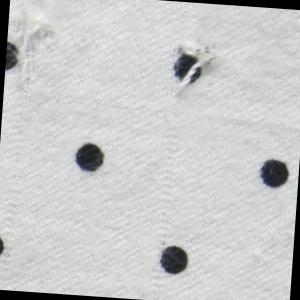Damage: (4, 1, 63, 108), (161, 35, 233, 106)
